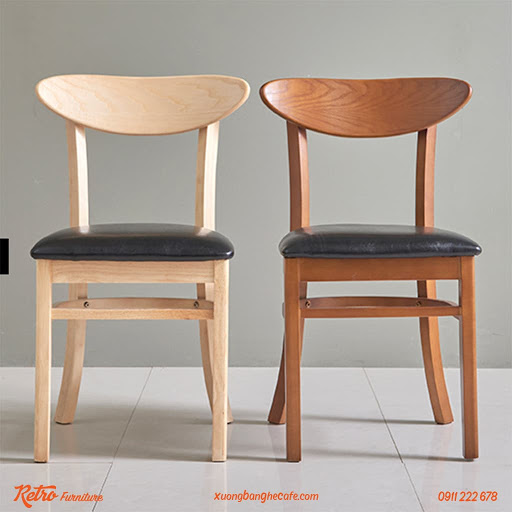seat: (259, 74, 492, 463), (21, 74, 251, 463)
